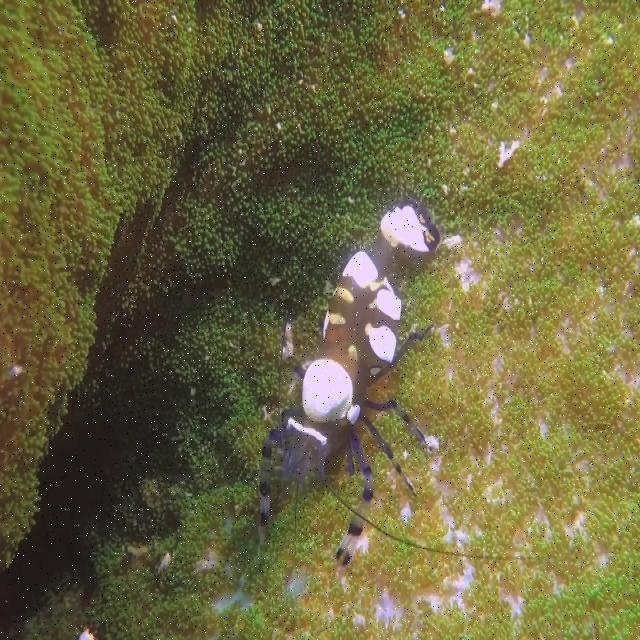reefs: (257, 200, 441, 576)
